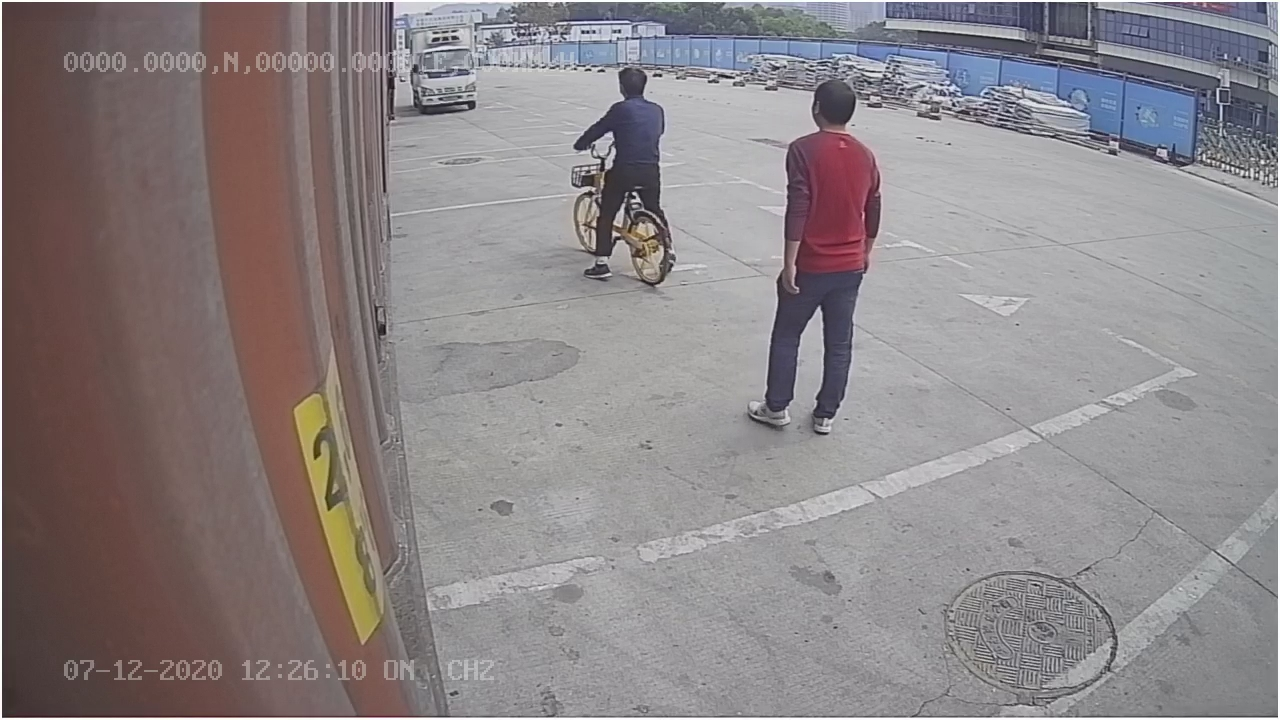person: (742, 78, 886, 436)
